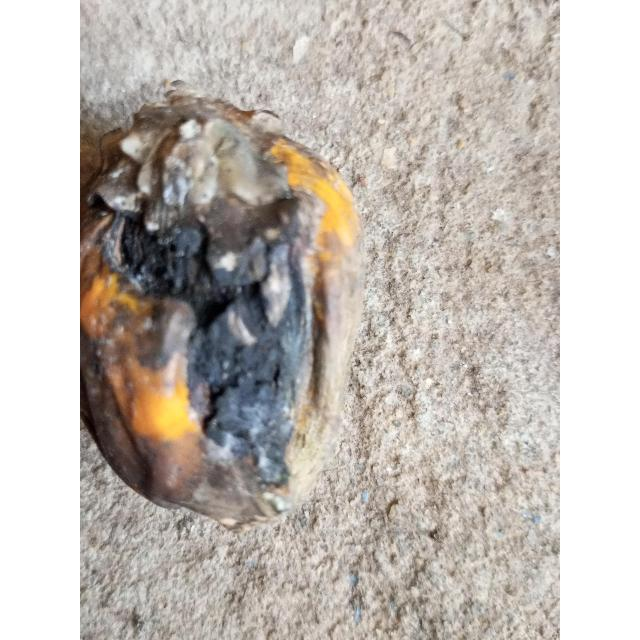damaged: (80, 84, 366, 531)
